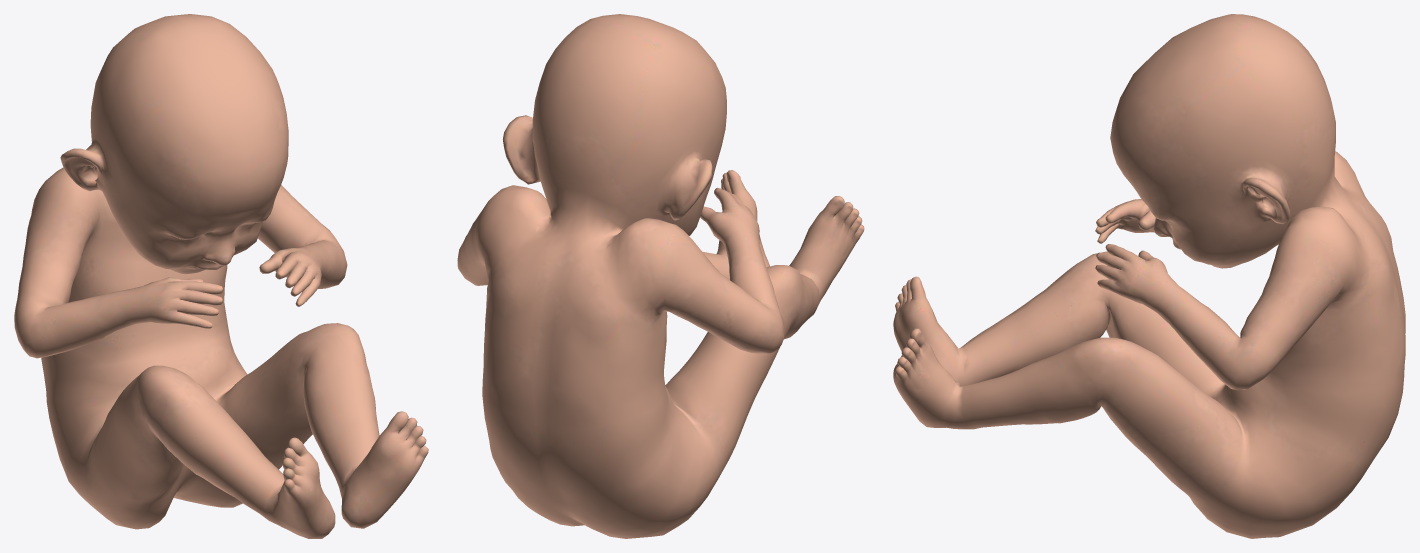
The picture shows the model from 3 angles, left to right: view 1: azimuth 30°, elevation 25°; view 2: azimuth 150°, elevation 25°; view 3: azimuth 270°, elevation 25°; orthographic projection.
Visible parts, largest first — view 1: Baby; view 2: Baby; view 3: Baby.
Part boxes in pixels (box(x1,y1,x2,y2)): Baby: box(14, 14, 428, 538); Baby: box(457, 14, 864, 538); Baby: box(893, 14, 1405, 538).
Bounding box in the file's own units: 0.2545 × 0.3761 × 0.3548.
Materials: 1 (1 with a texture image).
